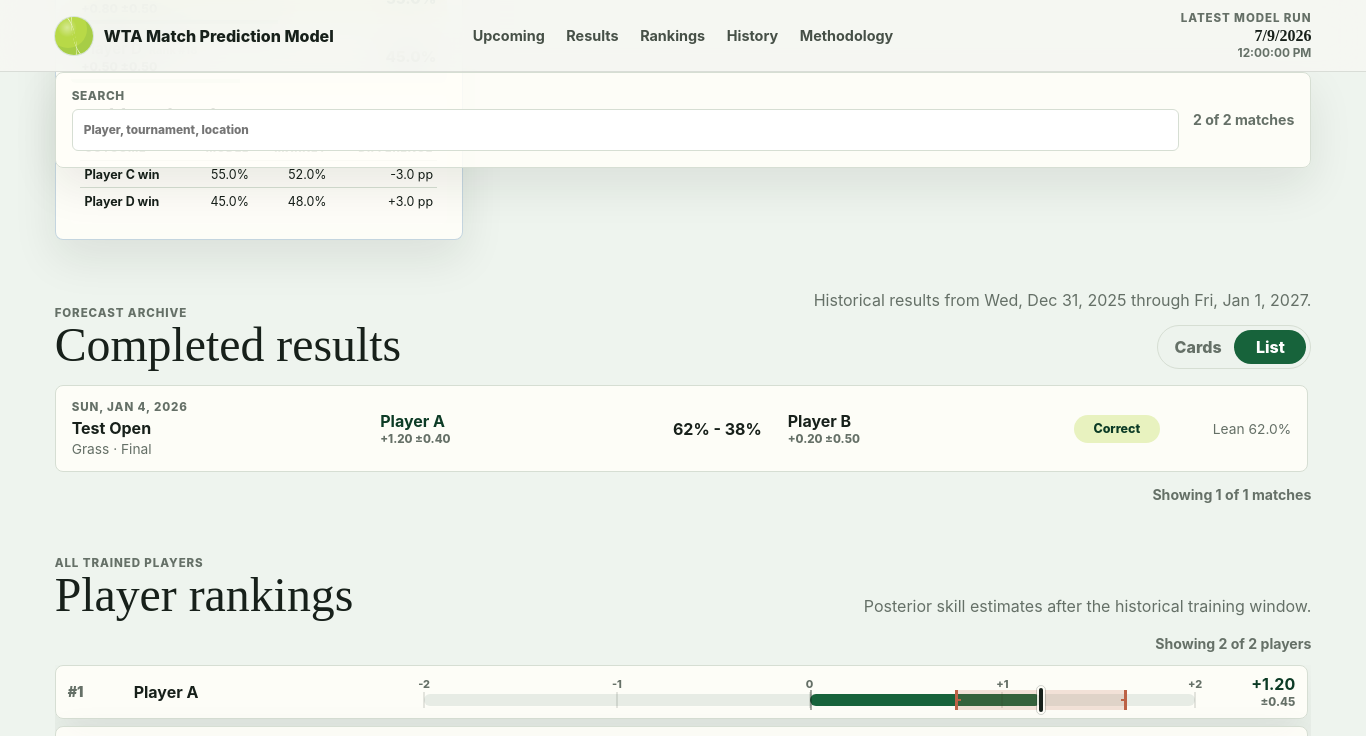
it: App › shows a completed match Brier score in the drawer
(page scrolled)
Expected: the heading "Completed results" is shown, [55, 321, 401, 369]
What coordinates should you click on to do the following:
click the text "Player A"
I would click on:
 (681, 428)
Its box is [55, 385, 1308, 472].
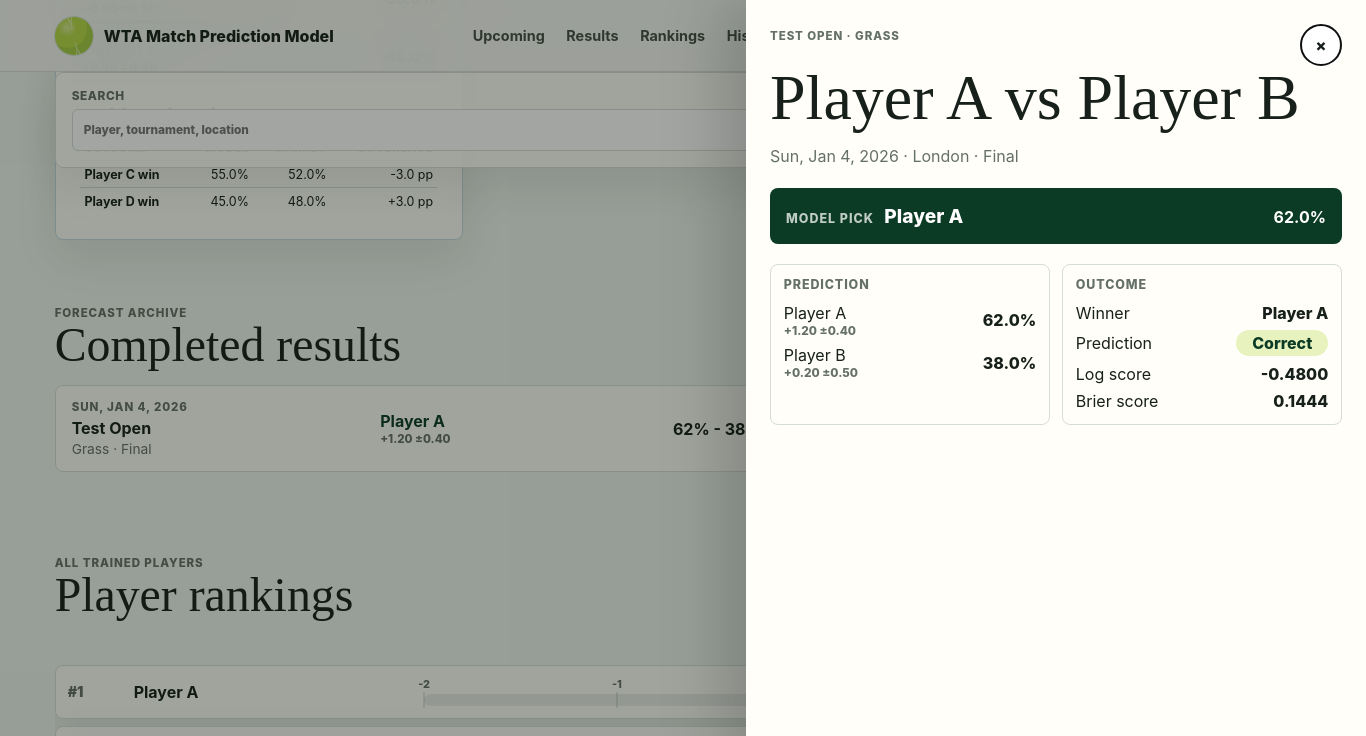
Expected: the text "Brier score" is shown, [1076, 391, 1158, 411]
Expected: the text "0.1444" is shown, [1273, 391, 1328, 411]
